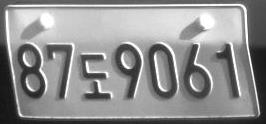0: (148, 43, 177, 98)
1: (213, 42, 244, 98)
6: (182, 43, 211, 99)
7: (46, 44, 74, 98)
8: (16, 42, 46, 98)
9: (115, 43, 142, 98)
도: (80, 53, 111, 100)
